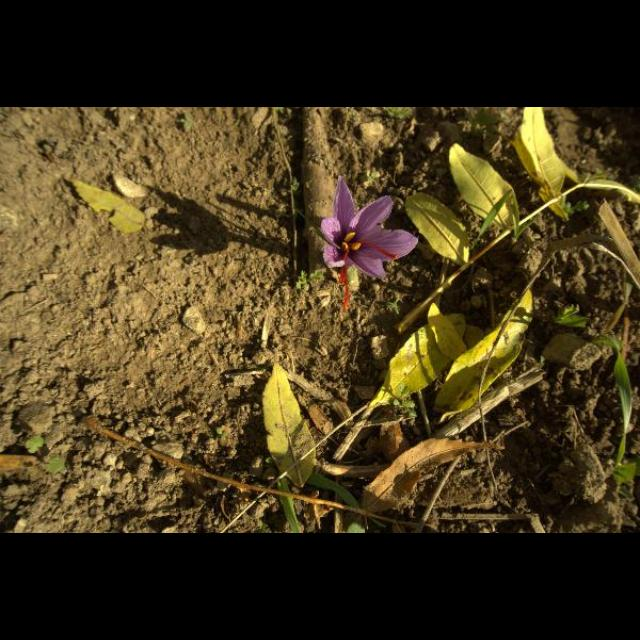flower: (320, 178, 420, 308)
